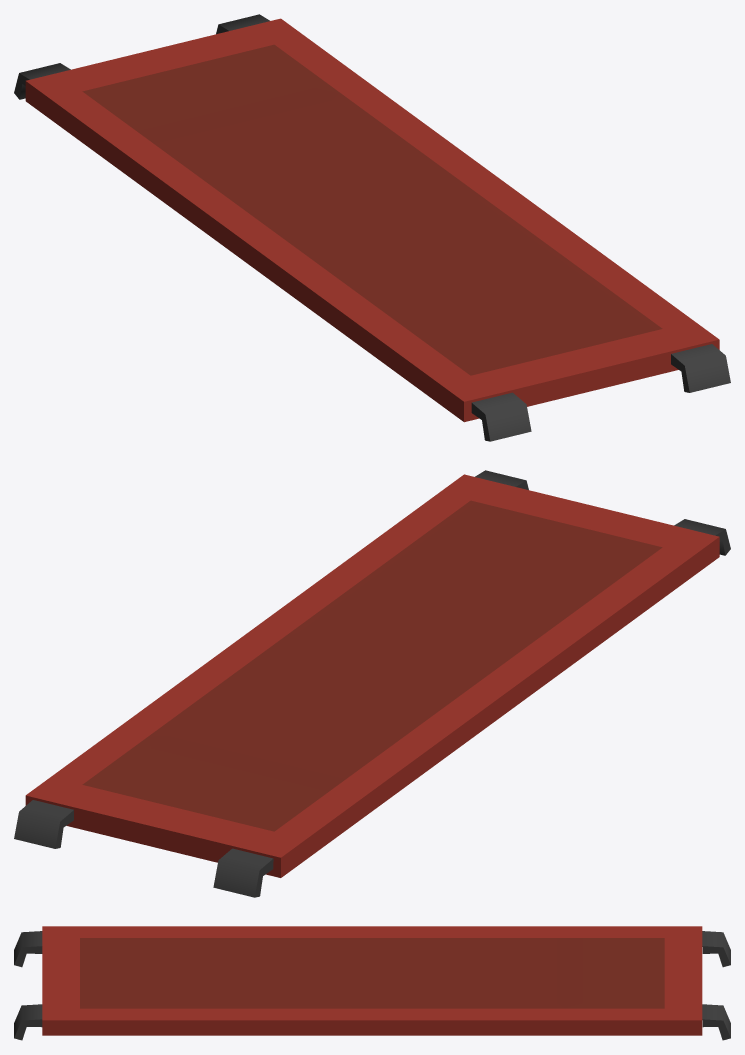
File: Scaffolding_Plank_C.fbx
The picture shows the model from 3 angles, top to bottom: view 1: azimuth 30°, elevation 25°; view 2: azimuth 150°, elevation 25°; view 3: azimuth 270°, elevation 25°; orthographic projection. The views are drawn at different scales.
Visible parts, largest first — view 1: Scaffolding_Plank_C; view 2: Scaffolding_Plank_C; view 3: Scaffolding_Plank_C.
Part boxes in pixels (x1,y1,x2,y2): Scaffolding_Plank_C: [14, 14, 730, 441]; Scaffolding_Plank_C: [14, 470, 730, 897]; Scaffolding_Plank_C: [14, 926, 730, 1040].
Size of the model in its own units: 65.43 by 7.53 by 211.
